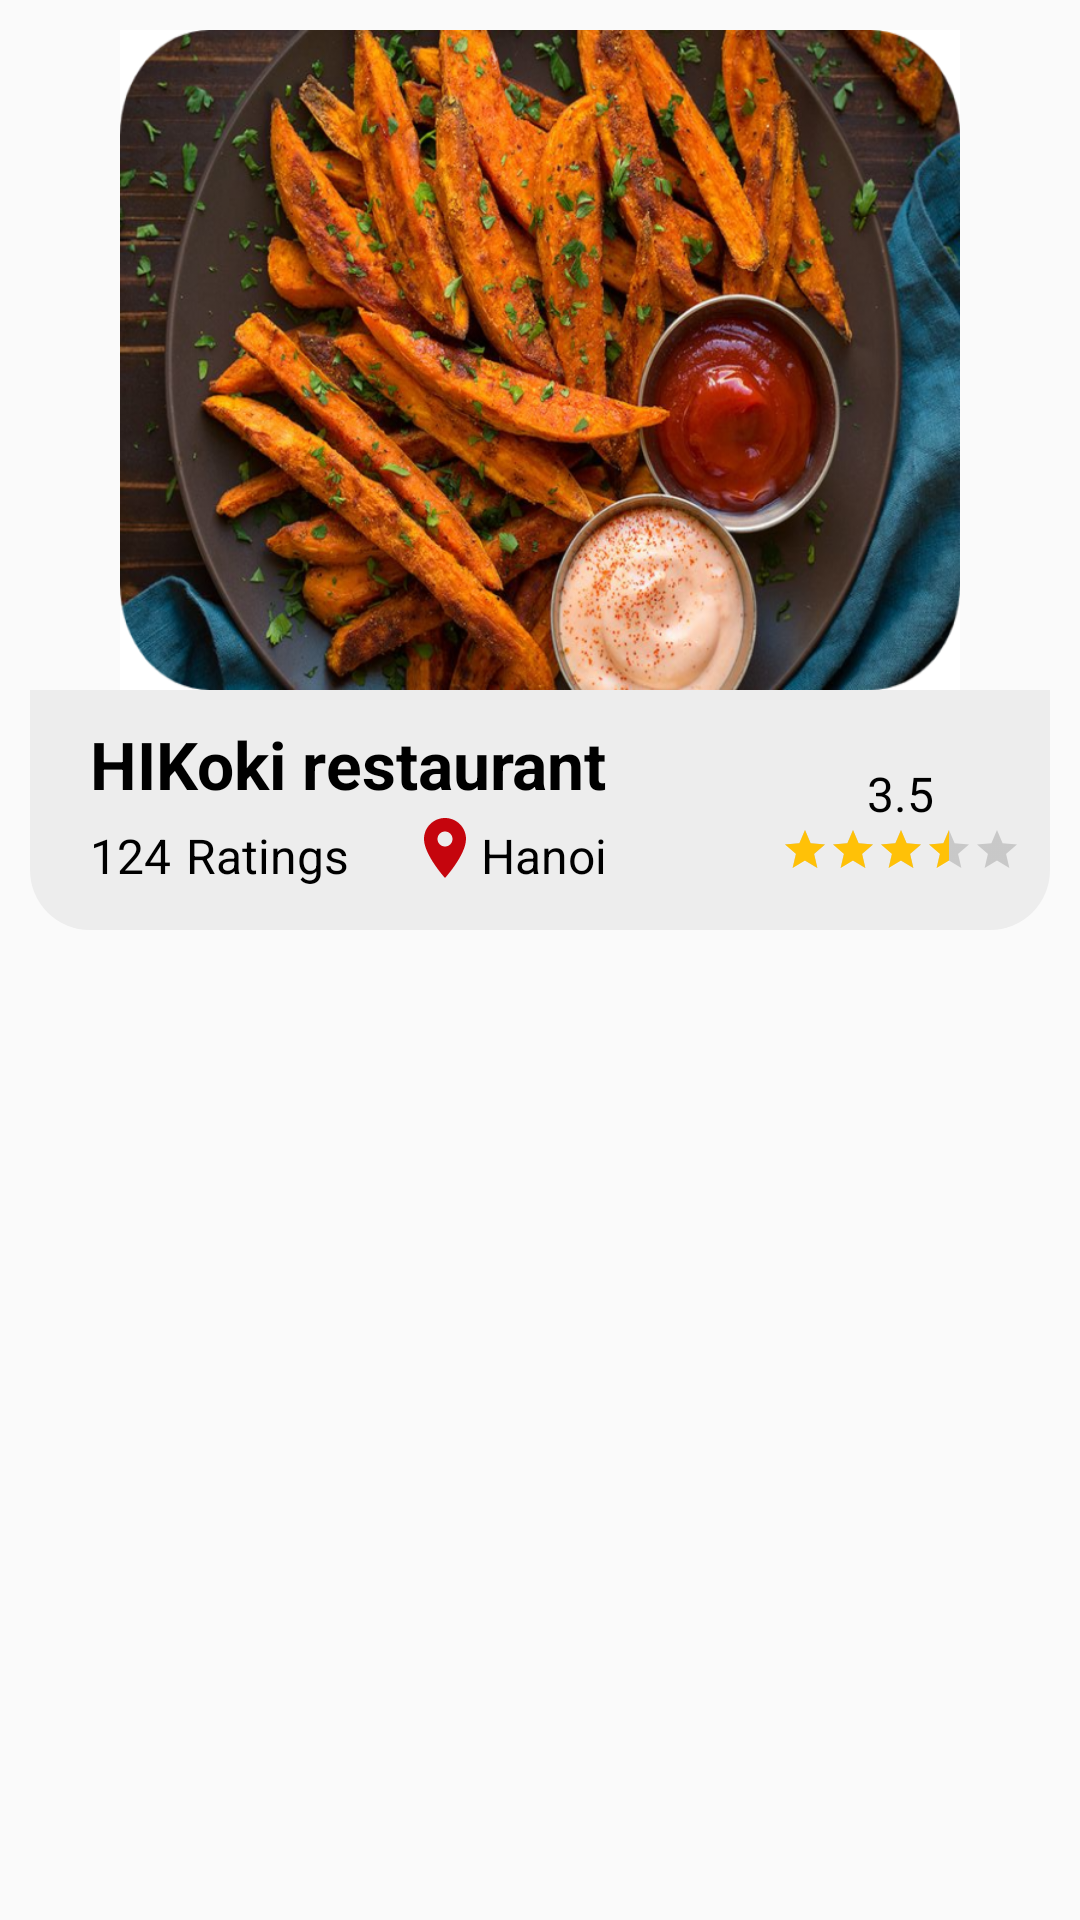

Locate icon controls on the screen. Image size 1080 × 1920, boxes as bbox=[x1, y1, x2, y2].
location on: bbox=[424, 818, 466, 878]
